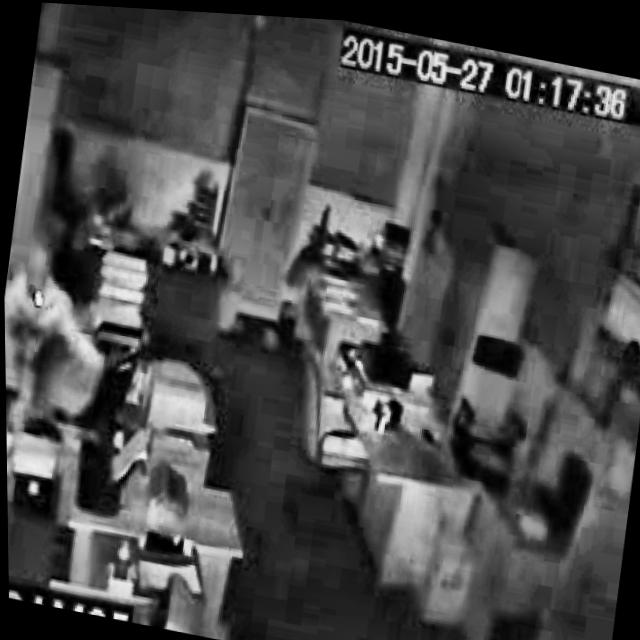burglary: (3, 228, 123, 461)
